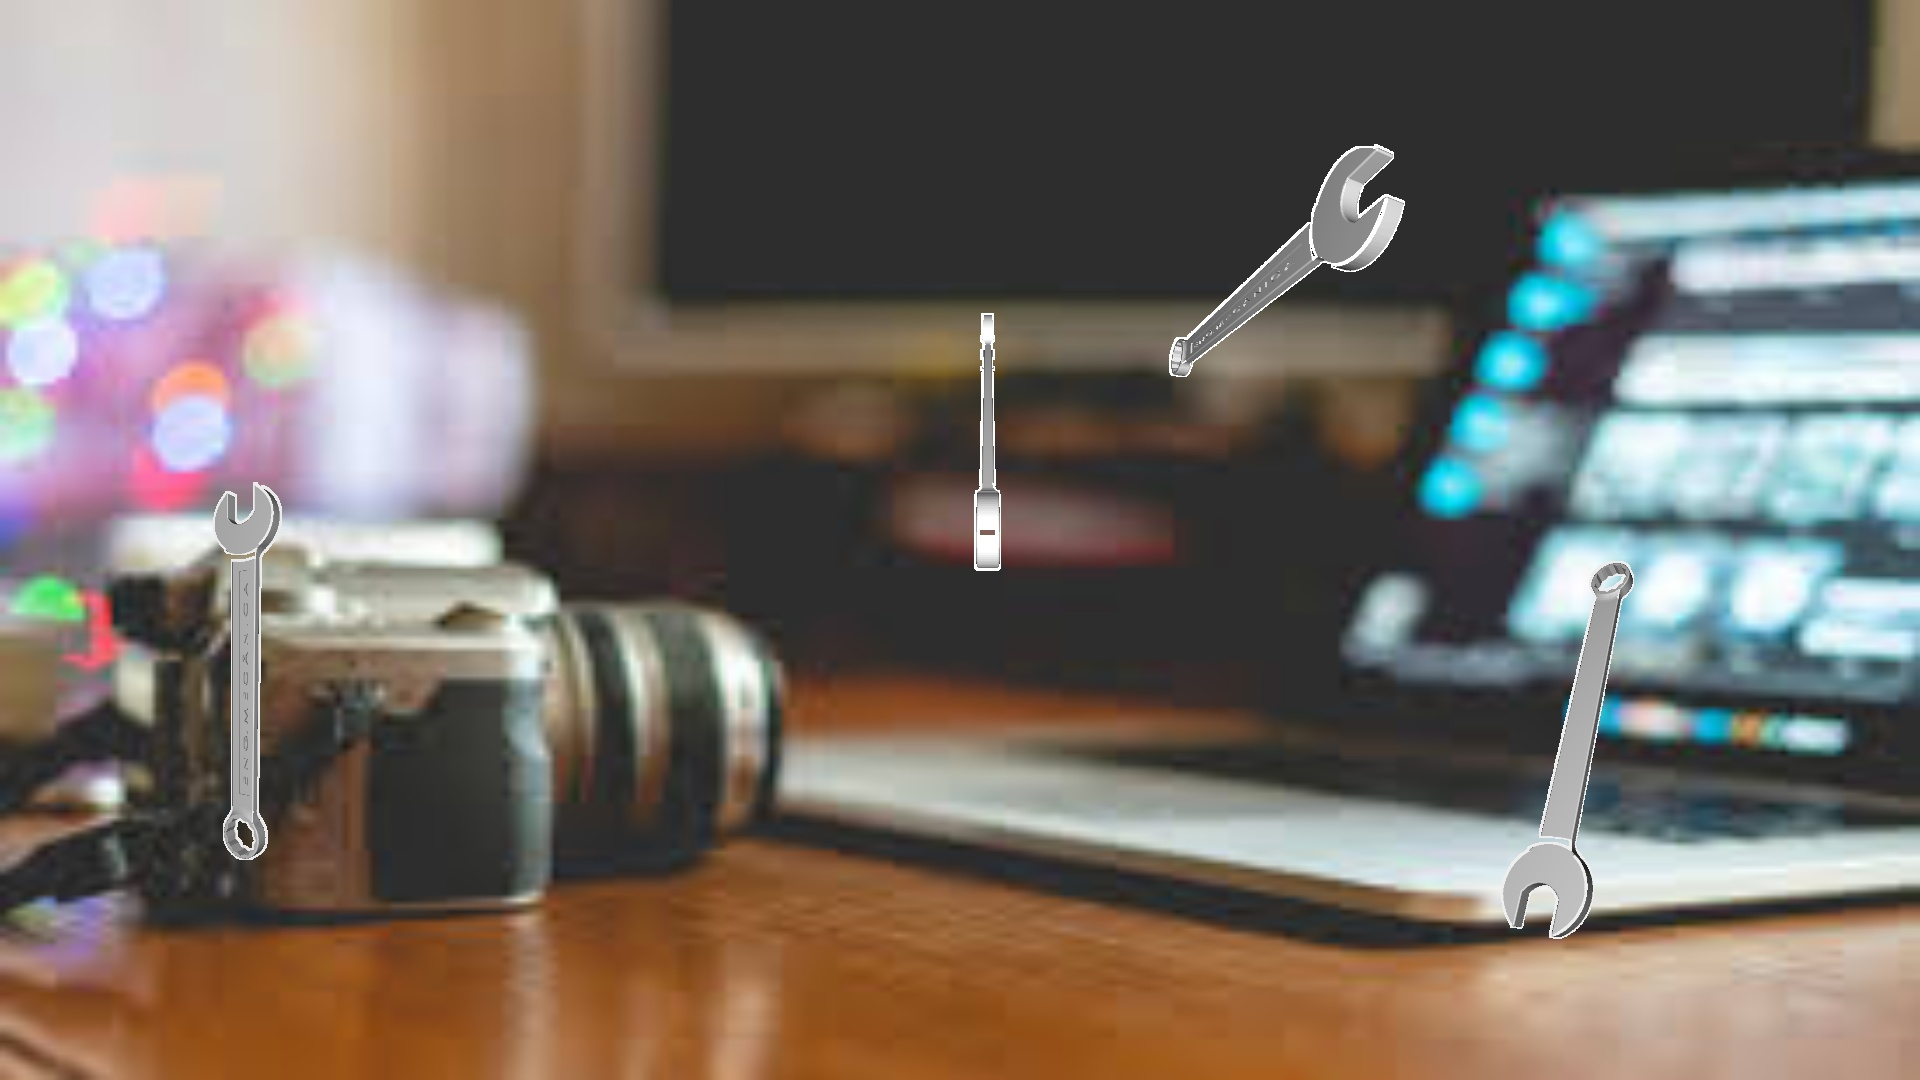Mixed Key: (1168, 144, 1404, 376), (1501, 560, 1633, 938), (214, 483, 281, 858), (975, 313, 1000, 570)
